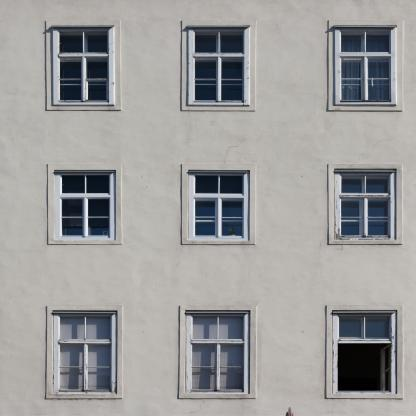Building Outline: (0, 0, 416, 416)
Facade: (0, 0, 416, 416)
Floor: (1, 0, 416, 149), (1, 154, 416, 292), (1, 296, 416, 416)
Floor Slab: (1, 149, 416, 153), (1, 292, 416, 296)
Window: (337, 316, 392, 391), (59, 316, 112, 391), (192, 316, 245, 391), (340, 30, 391, 102), (194, 30, 245, 102), (58, 30, 109, 102), (193, 174, 244, 238), (340, 174, 391, 238), (60, 174, 110, 238)
